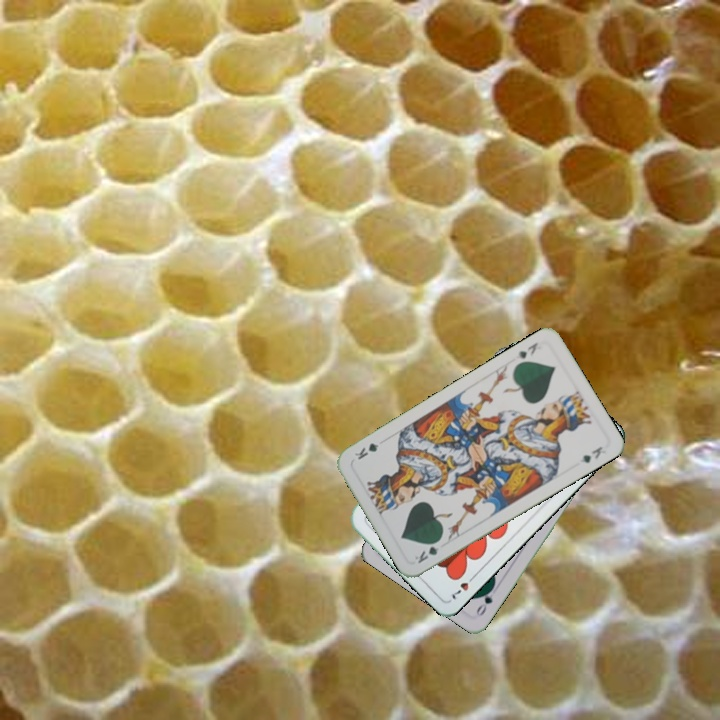GK: (410, 535, 444, 566), (514, 338, 540, 361)
GO: (472, 581, 497, 619)
H7: (448, 570, 479, 602)
